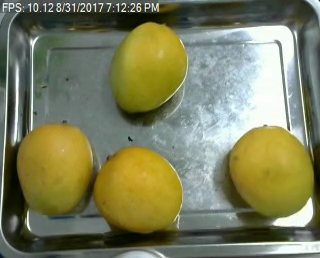Mango: (90, 141, 188, 237), (101, 15, 191, 119), (224, 118, 316, 219), (13, 120, 95, 216)
